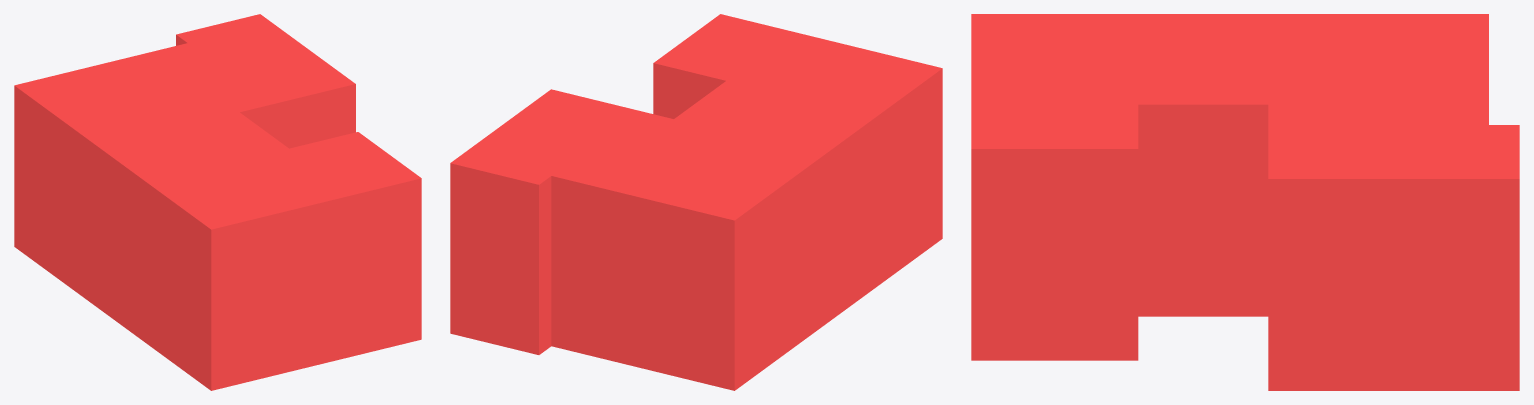
Rendered from Haus.gltf.
3 renders of one model, left to right at view 1: azimuth 30°, elevation 25°; view 2: azimuth 150°, elevation 25°; view 3: azimuth 270°, elevation 25°, orthographic. The views are drawn at different scales.
Parts seen in each view (by area): view 1: Plane; view 2: Plane; view 3: Plane.
Part boxes in pixels (box(x1,y1,x2,y2)): Plane: box(14, 14, 421, 390); Plane: box(450, 14, 942, 390); Plane: box(971, 14, 1519, 390).
Size of the model in its own units: 5.85 by 3.5 by 8.21.
